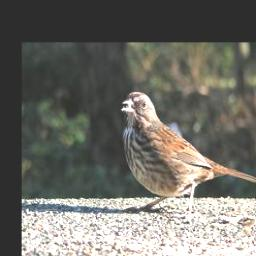Sparrow: (118, 87, 256, 220)
